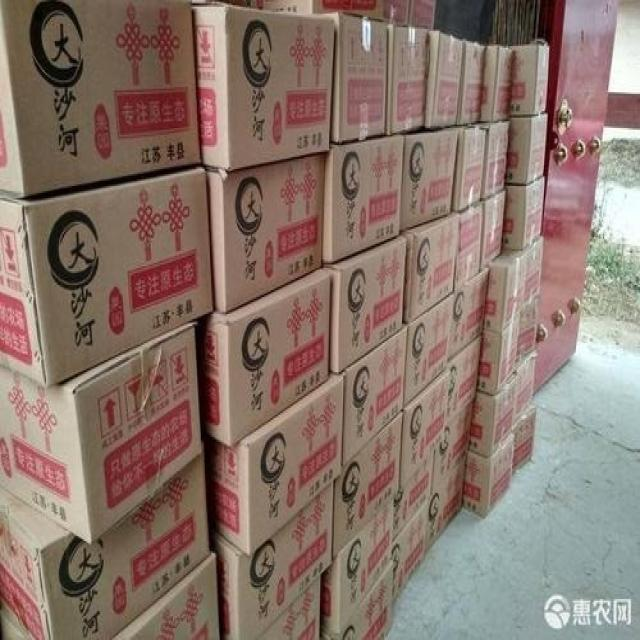box: (0, 166, 214, 387), (0, 323, 201, 544), (1, 452, 210, 640), (0, 0, 200, 196), (204, 374, 343, 553), (191, 2, 334, 171), (198, 270, 332, 447), (211, 483, 333, 640), (206, 155, 325, 312), (324, 236, 404, 374), (323, 133, 404, 261), (334, 415, 402, 560), (321, 502, 392, 635), (343, 324, 407, 468), (111, 556, 220, 638), (330, 14, 387, 142), (403, 208, 461, 324), (403, 369, 451, 490), (401, 131, 457, 230), (404, 295, 453, 408), (321, 567, 393, 640), (388, 22, 428, 133), (462, 433, 513, 517), (392, 451, 434, 544), (392, 500, 430, 602), (470, 375, 517, 457), (261, 577, 321, 640), (434, 401, 474, 495), (477, 314, 521, 396), (449, 271, 489, 358), (426, 31, 462, 126), (429, 454, 467, 544), (453, 121, 489, 212), (449, 336, 483, 428), (502, 177, 545, 249), (506, 114, 548, 184), (484, 253, 522, 329), (511, 43, 550, 114), (503, 241, 543, 307), (457, 41, 486, 125), (483, 46, 515, 121), (454, 201, 481, 288), (251, 0, 383, 17), (484, 121, 511, 200), (480, 189, 506, 268), (513, 404, 536, 474), (515, 352, 536, 425), (517, 302, 539, 367), (1, 604, 33, 640), (408, 0, 436, 29), (384, 0, 408, 24)
